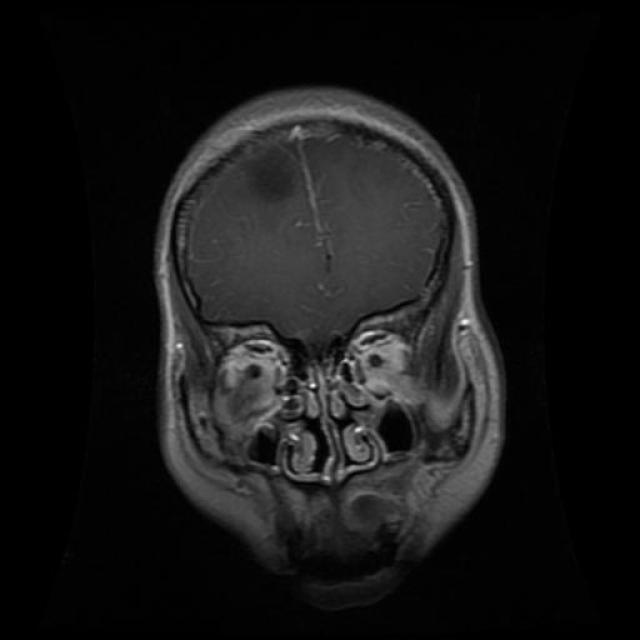Glioma: (240, 143, 300, 205)
